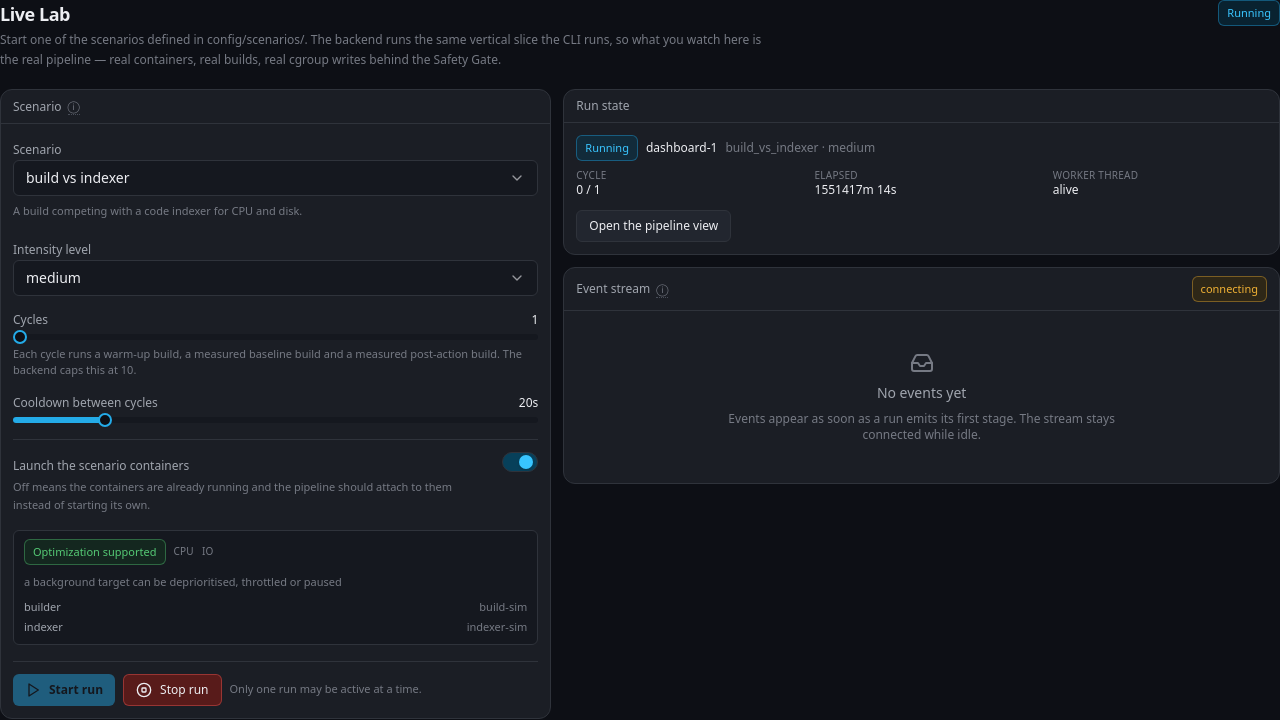
Test: Live Lab › posts a stop to the active run and nothing else
Click the button "Stop run" at (172, 690), box top-left (123, 674), bottom-right (222, 706)
(page scrolled)
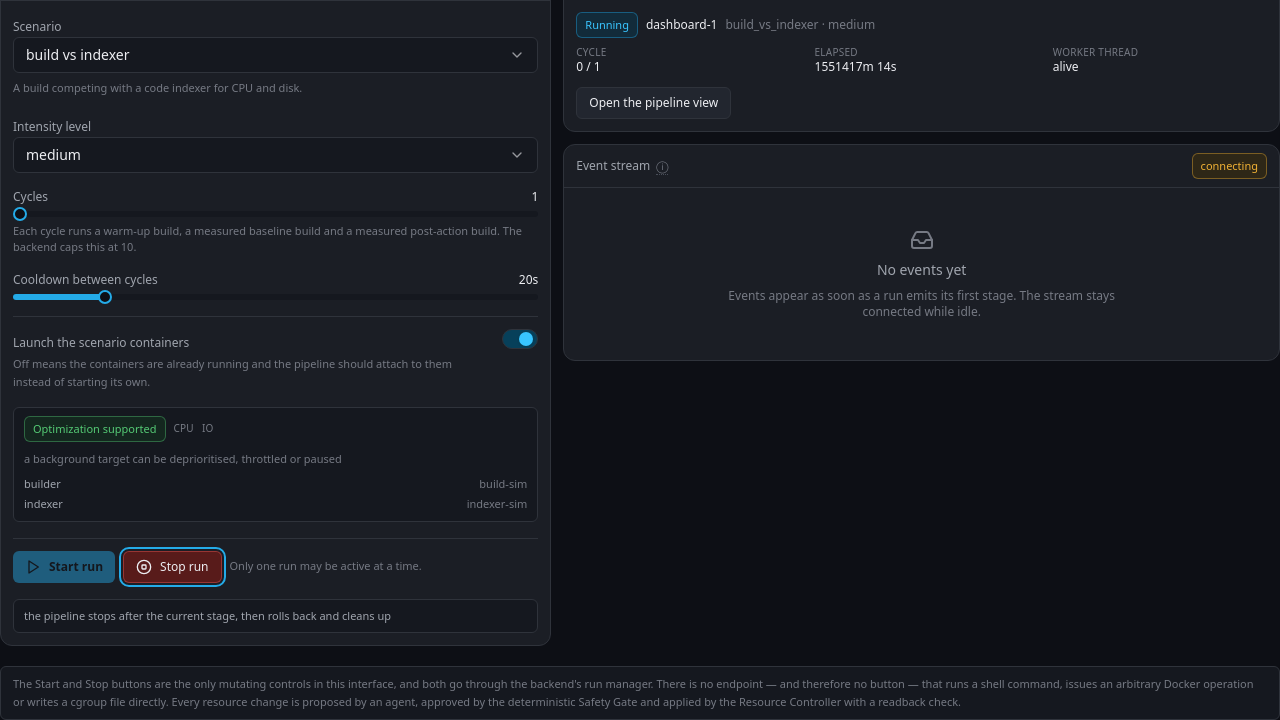
Result: the text "rolls back and cleans up" is shown at top-left (24, 608), bottom-right (391, 622)
